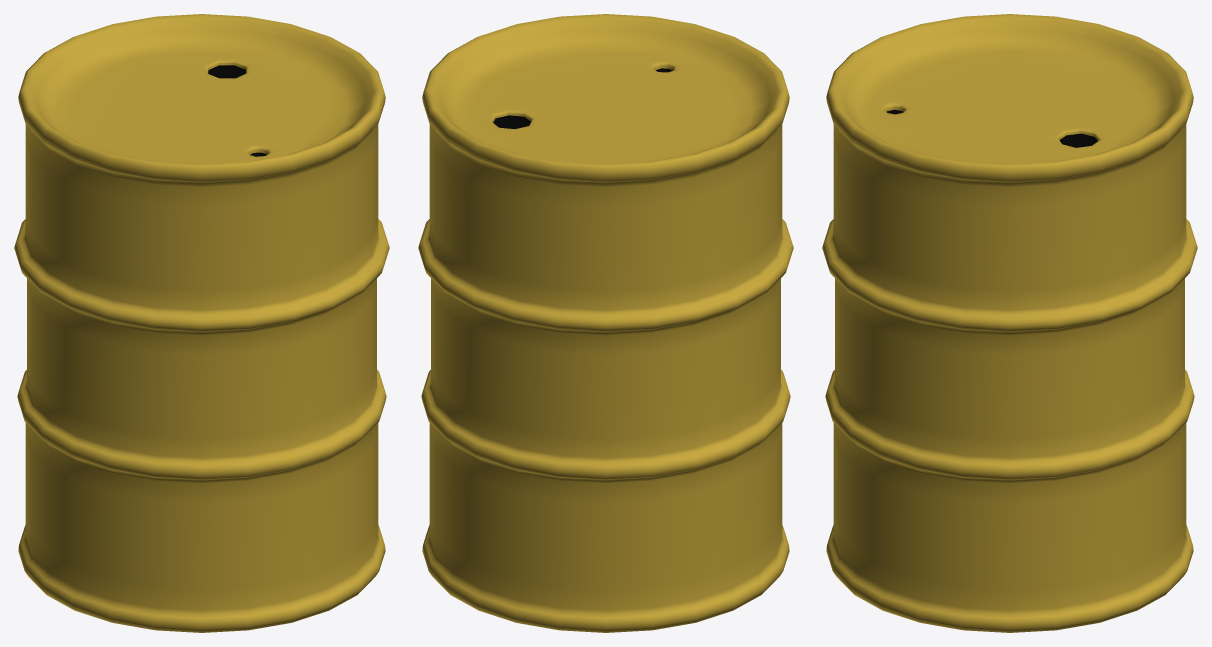
Rendered from Drum.fbx.
3 views of the same model, side by side, from view 1: azimuth 30°, elevation 25°; view 2: azimuth 150°, elevation 25°; view 3: azimuth 270°, elevation 25° (orthographic).
Parts seen in each view (by area): view 1: Circle; view 2: Circle; view 3: Circle.
Boxes of the visible parts, x1,y1,x2,y2 form: Circle: (14, 14, 389, 632); Circle: (418, 14, 793, 632); Circle: (822, 14, 1197, 632).
Bounding box in the file's own units: 86.62 × 120 × 86.62.
